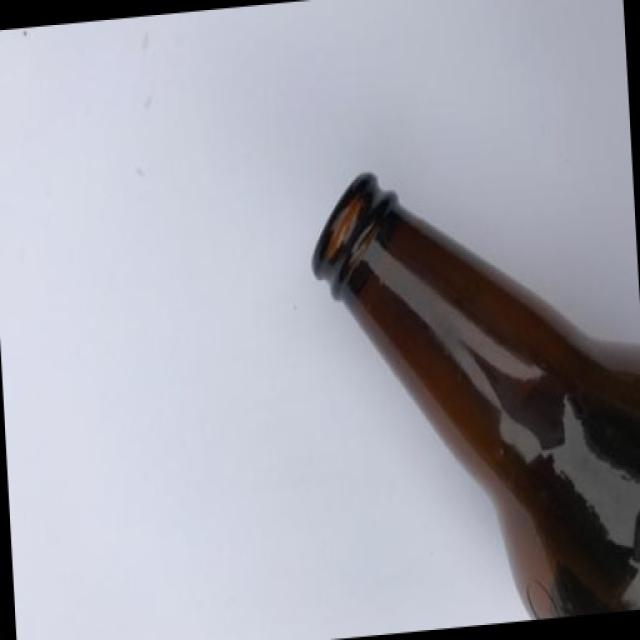vidrio: (291, 113, 640, 640)
